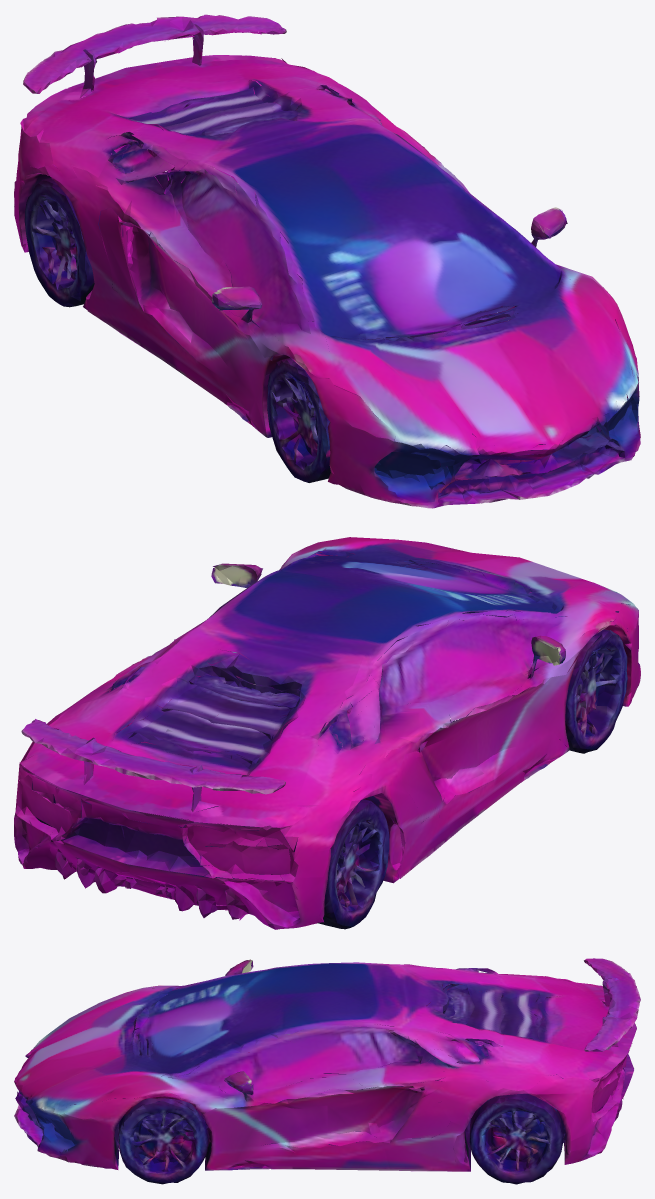
The model's file is electrichypercar1.glb.
3 views of the same model, one above another, from view 1: azimuth 30°, elevation 25°; view 2: azimuth 150°, elevation 25°; view 3: azimuth 270°, elevation 25° (orthographic). The views are drawn at different scales.
Parts seen in each view (by area): view 1: body, wheel_front_L, wheel_rear_L, wheel_front_R; view 2: body, wheel_rear_L, wheel_front_L, wheel_rear_R; view 3: body, wheel_front_R, wheel_rear_R.
Part boxes in pixels (x1,y1,x2,y2): body: [14, 14, 638, 508]; wheel_front_L: [224, 354, 454, 508]; wheel_rear_L: [14, 164, 171, 331]; wheel_front_R: [515, 298, 640, 464]; body: [14, 537, 634, 927]; wheel_rear_L: [222, 789, 447, 929]; wheel_front_L: [512, 603, 640, 782]; wheel_rear_R: [14, 714, 163, 879]; body: [14, 958, 640, 1171]; wheel_front_R: [28, 1096, 272, 1184]; wheel_rear_R: [356, 1098, 618, 1184].
Bounding box in the file's own units: 1.9 × 0.9884 × 4.
Materials: 1 (1 with a texture image).
